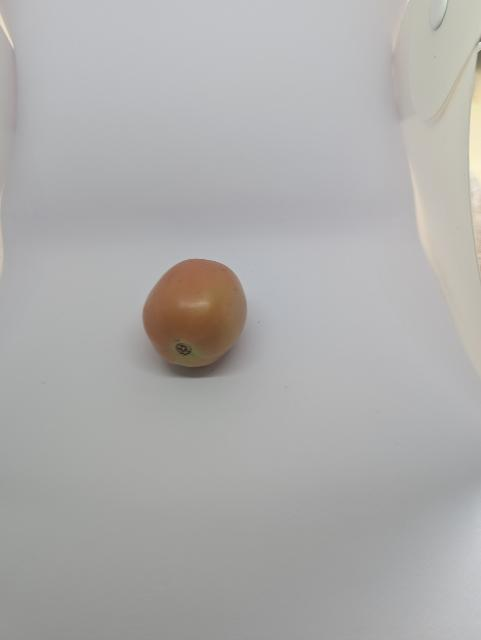turning: (141, 253, 260, 375)
